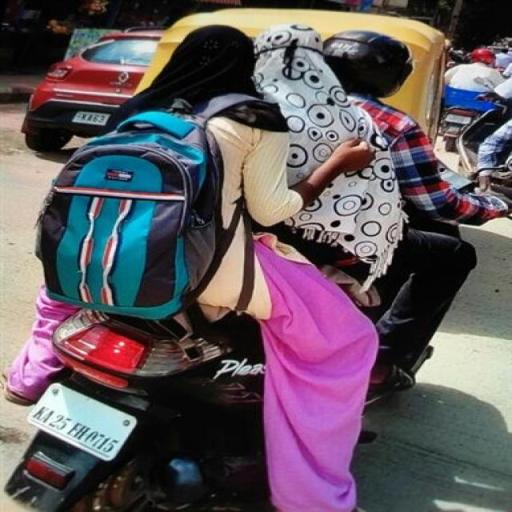tripple riding: (17, 21, 512, 339)
